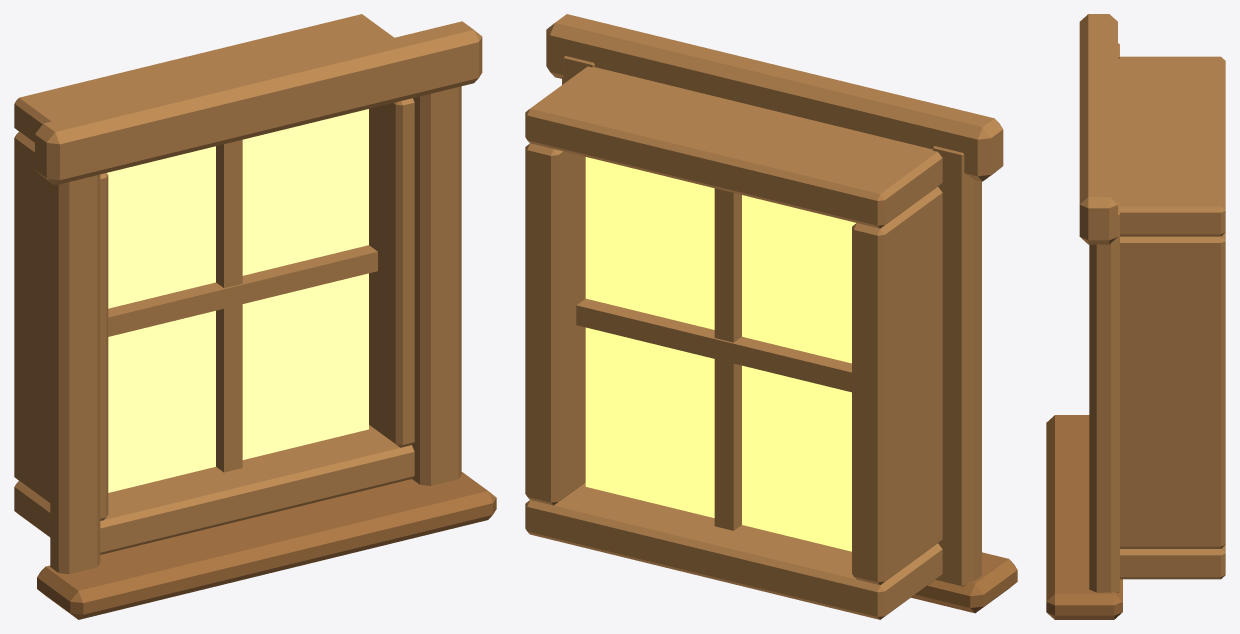
Rendered from window_insert.glb.
The picture shows the model from 3 angles, left to right: view 1: azimuth 30°, elevation 25°; view 2: azimuth 150°, elevation 25°; view 3: azimuth 270°, elevation 25°; orthographic projection. The views are drawn at different scales.
Parts seen in each view (by area): view 1: window_insert; view 2: window_insert; view 3: window_insert.
Part boxes in pixels (x1,y1,x2,y2): window_insert: [14, 14, 496, 619]; window_insert: [525, 14, 1017, 619]; window_insert: [1046, 14, 1225, 619].
Size of the model in its own units: 0.94 by 0.98 by 0.375.
